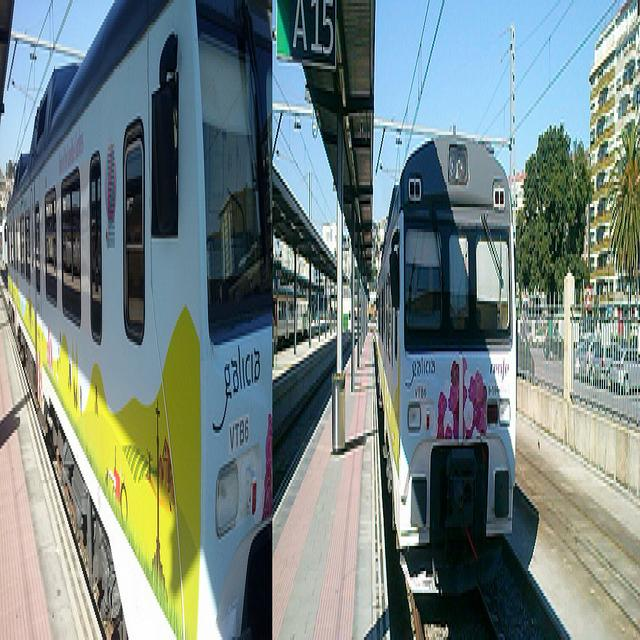Vehicle: (617, 347, 640, 397), (585, 338, 607, 386), (573, 334, 591, 382), (544, 330, 564, 360)
